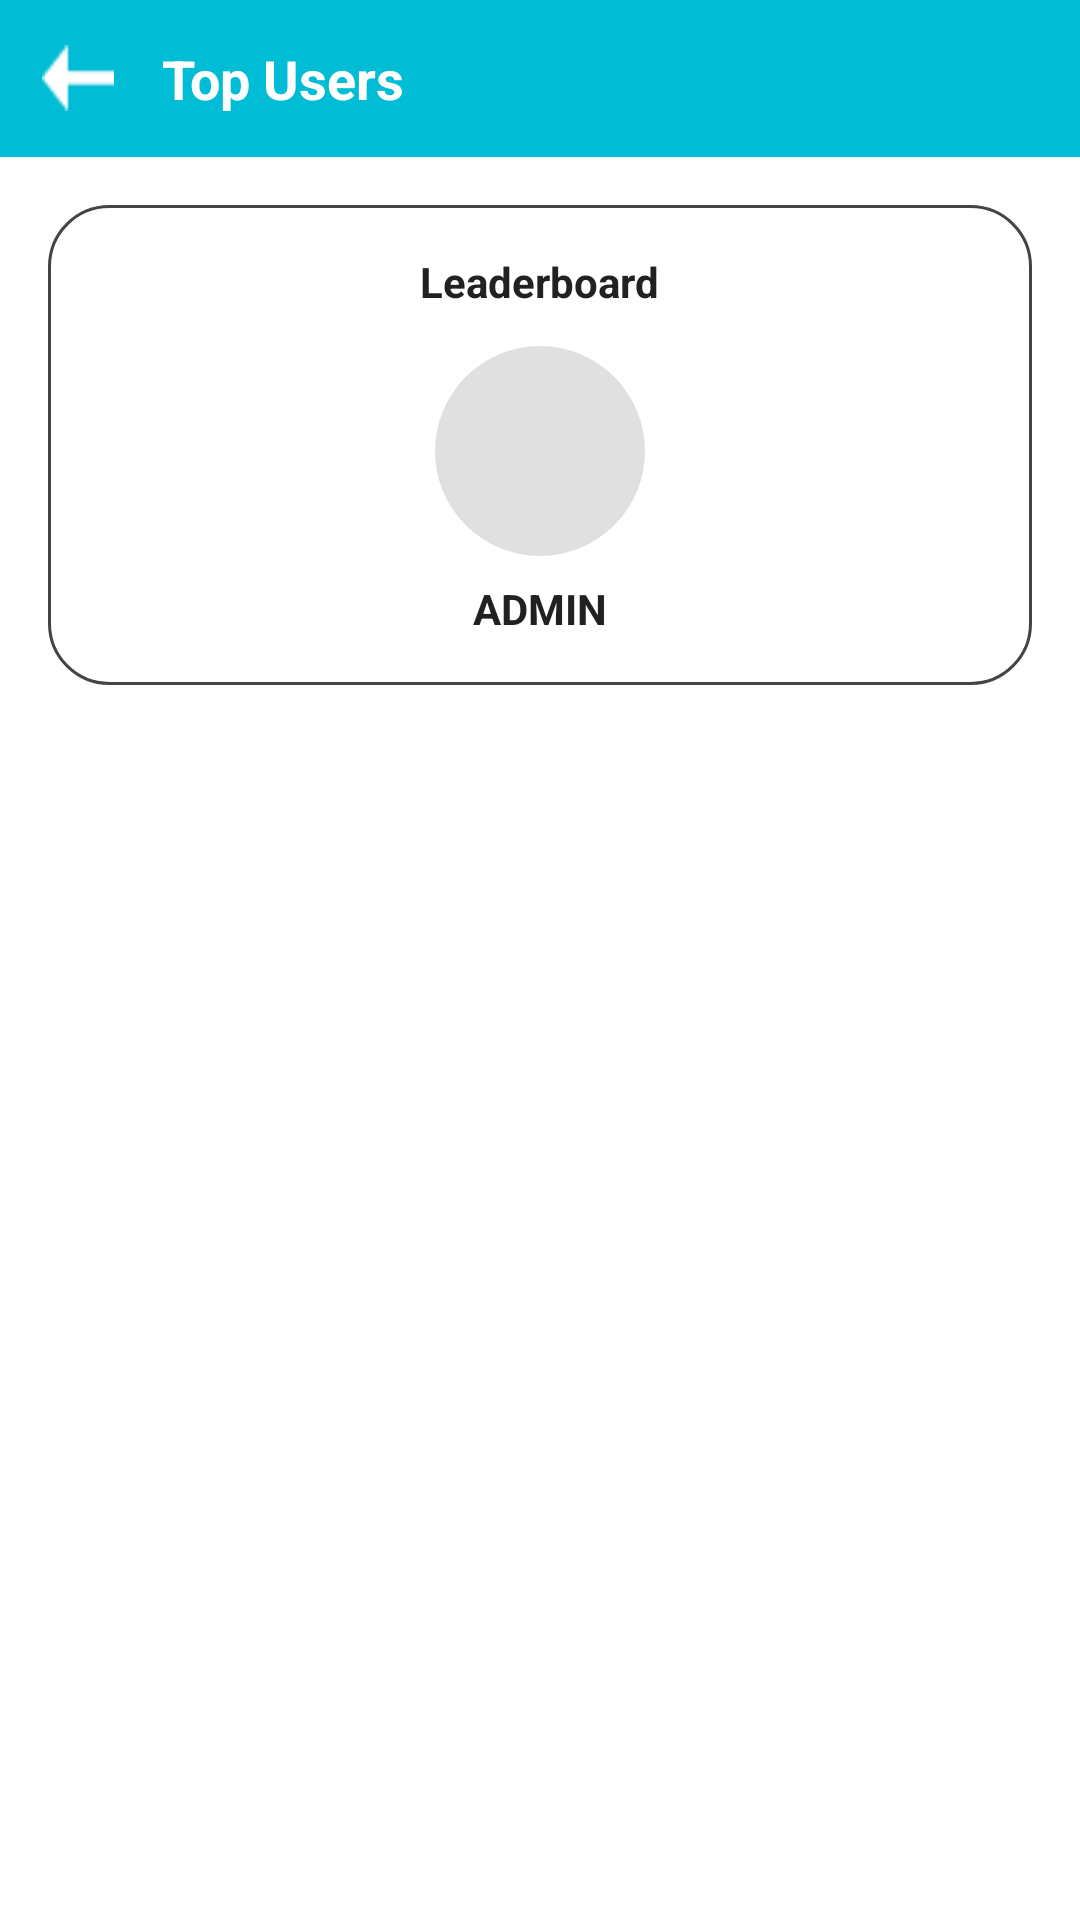

Icon bounding boxes for this 1080px×1920px phone screenshot, format (x1, y1, x2, y2):
activity back: (42, 45, 114, 111)
